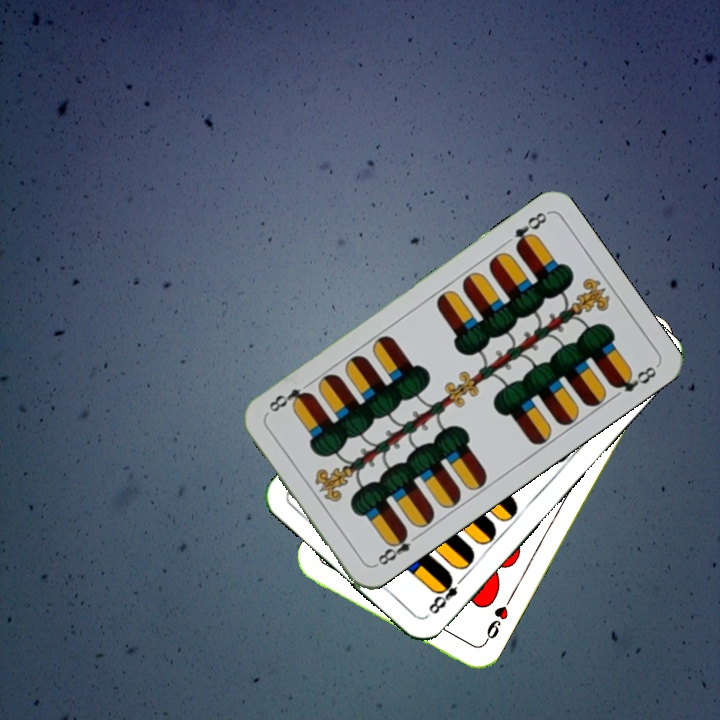E8: (370, 525, 423, 569), (424, 571, 468, 617), (510, 208, 550, 252)
H9: (478, 594, 514, 648)
